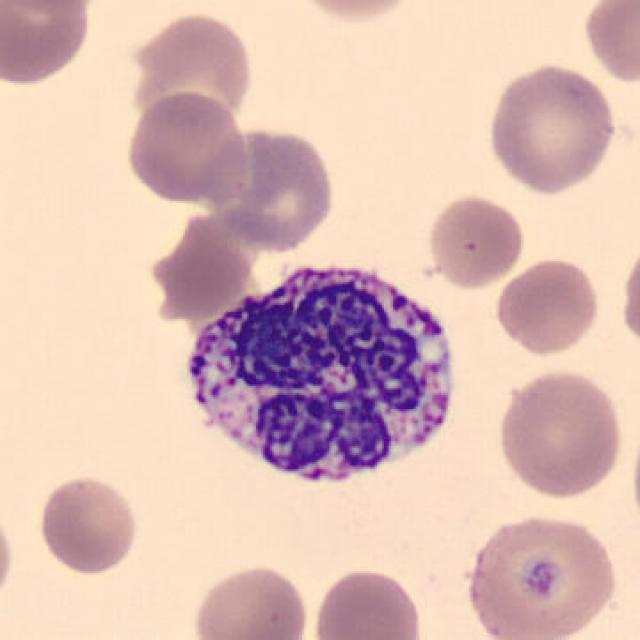Neutrophil: (172, 249, 468, 504)
Platelets: (514, 545, 566, 604)
RBC: (460, 509, 622, 640), (482, 60, 620, 196), (492, 365, 626, 501), (202, 123, 340, 254), (126, 9, 258, 130), (121, 88, 251, 206), (141, 215, 257, 322), (490, 254, 604, 358), (34, 472, 140, 576), (423, 190, 528, 291), (188, 560, 312, 640), (309, 564, 427, 640), (0, 0, 96, 88), (578, 0, 640, 88), (284, 0, 424, 26), (617, 233, 640, 358), (627, 398, 640, 550), (0, 501, 16, 615), (0, 0, 103, 14)
